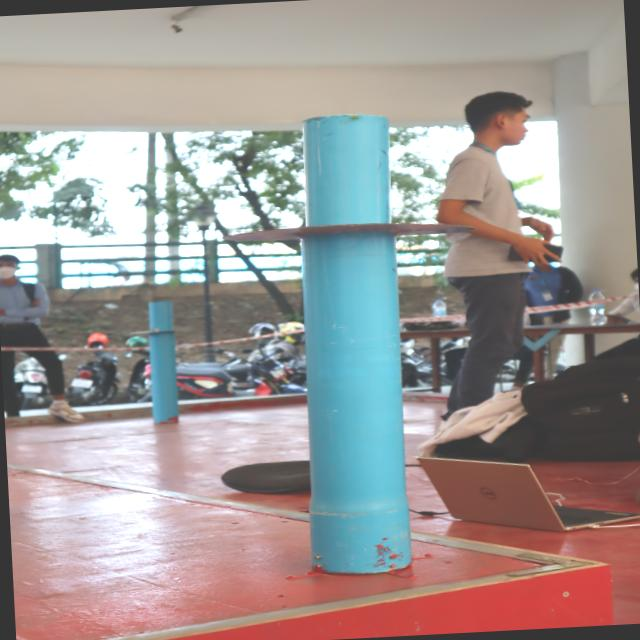pole: (229, 105, 460, 323), (125, 296, 202, 358)
